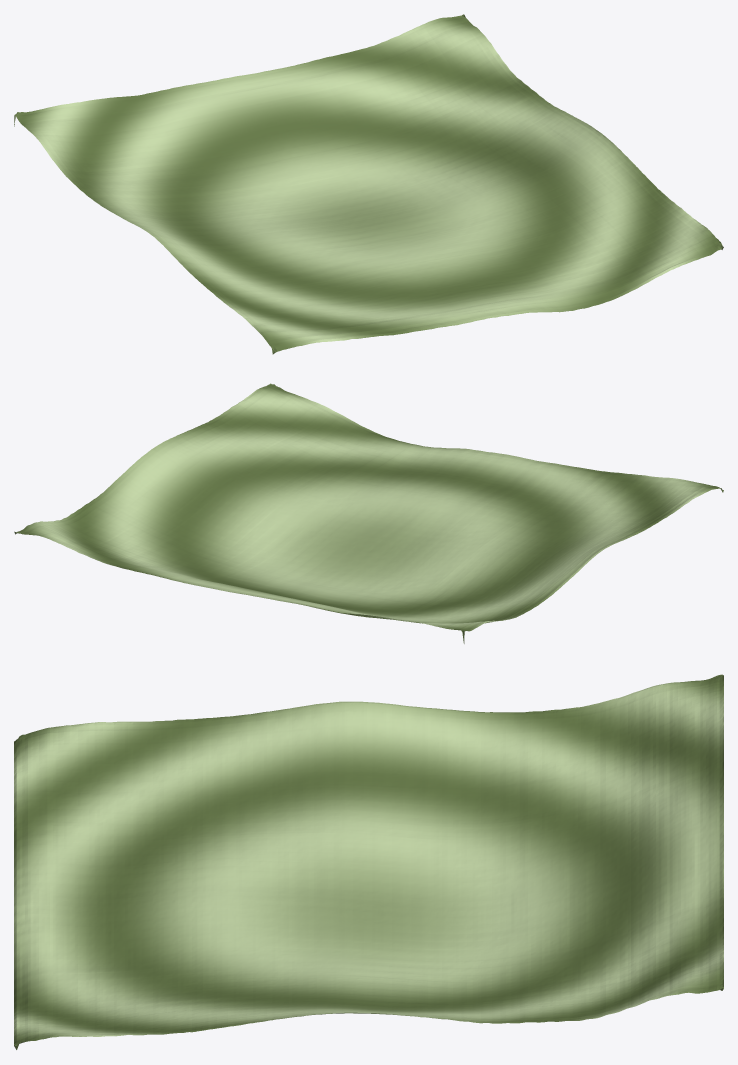
Rendered from terrain-lod1.glb.
The picture shows the model from 3 angles, top to bottom: view 1: azimuth 30°, elevation 25°; view 2: azimuth 150°, elevation 25°; view 3: azimuth 270°, elevation 25°; orthographic projection. The views are drawn at different scales.
Parts seen in each view (by area): view 1: geometry_0; view 2: geometry_0; view 3: geometry_0.
Boxes of the visible parts, box(x1,y1,x2,y2) form: geometry_0: box(14, 14, 723, 354); geometry_0: box(14, 383, 723, 643); geometry_0: box(14, 674, 723, 1049).
Size of the model in its own units: 511 by 88.14 by 511.
1 material, 1 textured.
